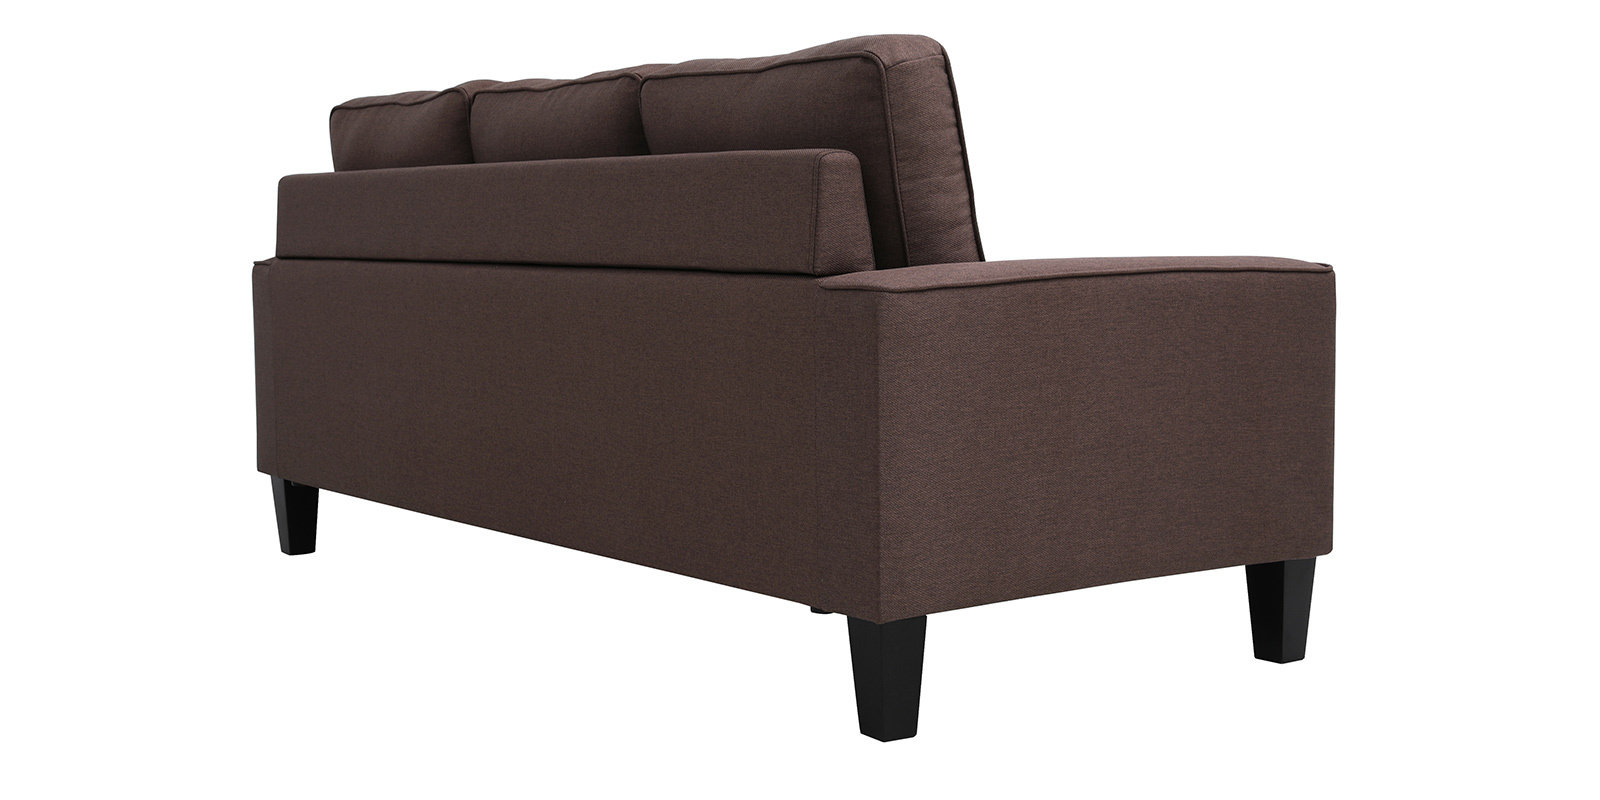Alice Three Seater Sofa in Brown Colour by Zofa: (234, 29, 1350, 734)
